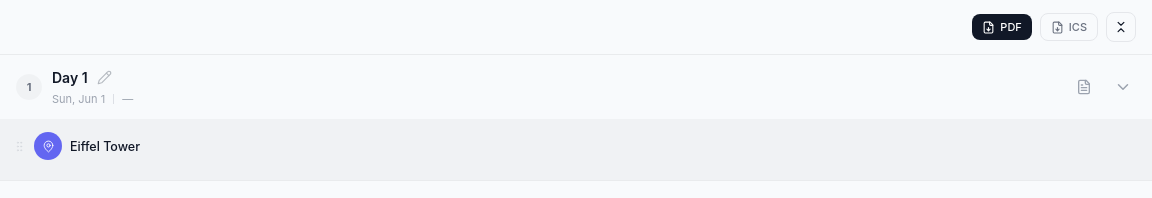
Test case: DayPlanSidebar › FE-PLANNER-DAYPLAN-008: clicking chevron again re-expands
This screenshot has width=1152, height=198.
Step 1. Click the 6th button → point(1123, 87), box [1108,72,1138,102]
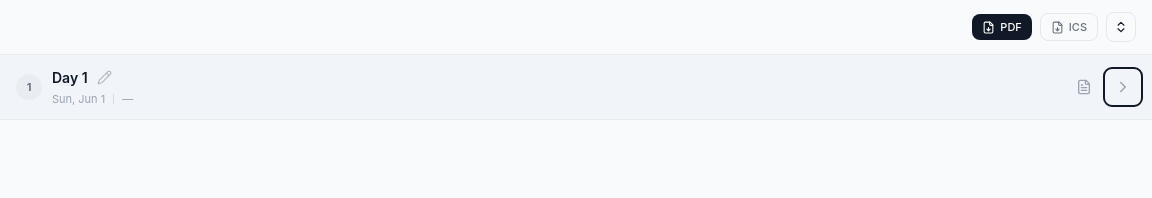
Now the text "Eiffel Tower" is gone
Step 2. Click the 6th button → point(1123, 87), box [1108,72,1138,102]
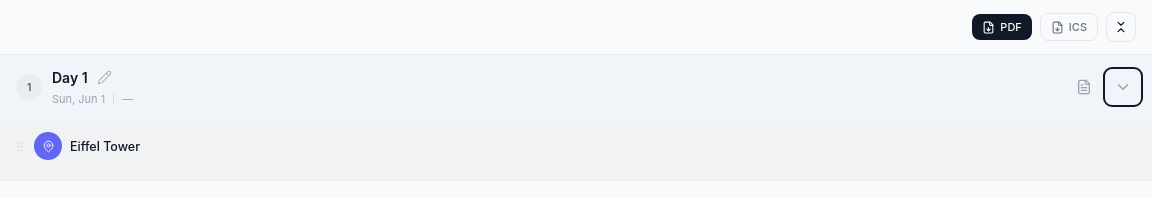
Now the text "Eiffel Tower" is shown, box [70,138,140,154]
